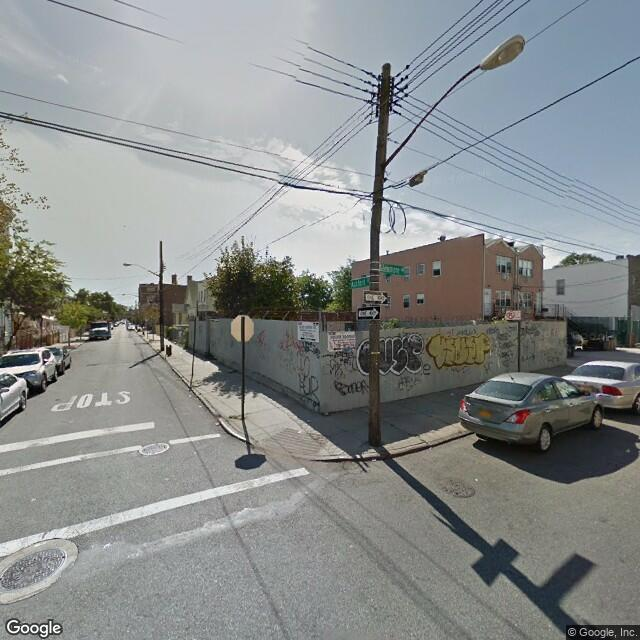litter: (371, 455, 382, 464), (214, 419, 222, 424), (189, 394, 194, 401), (321, 410, 328, 415), (448, 389, 453, 395), (228, 368, 235, 371), (476, 478, 480, 482)
